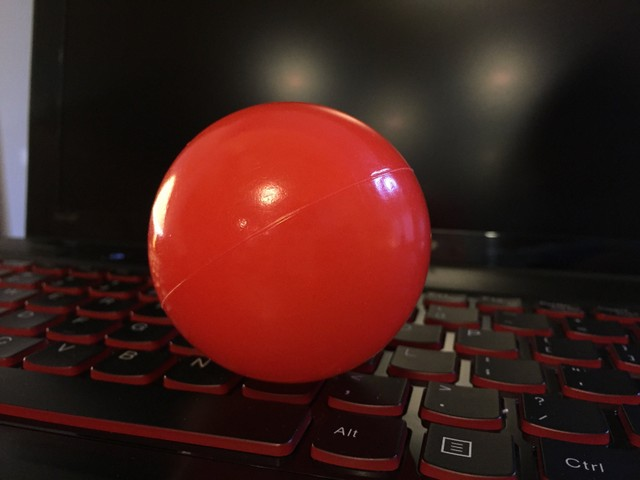Ball: (161, 104, 431, 379)
